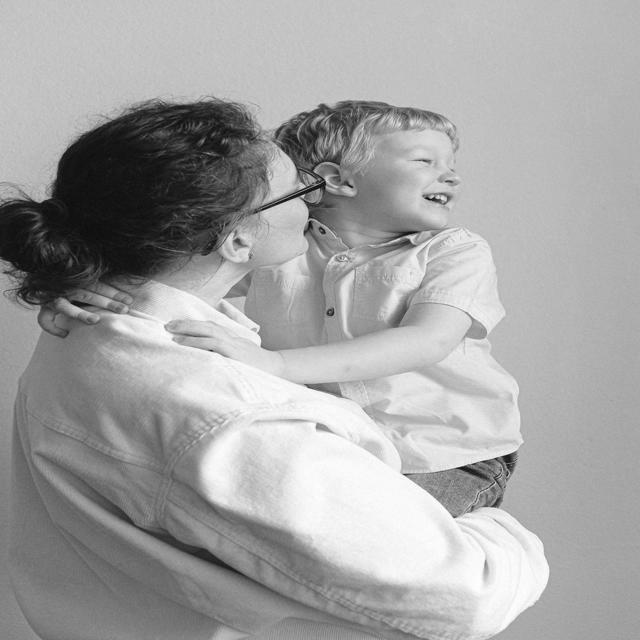Happiness: (353, 128, 467, 234)
